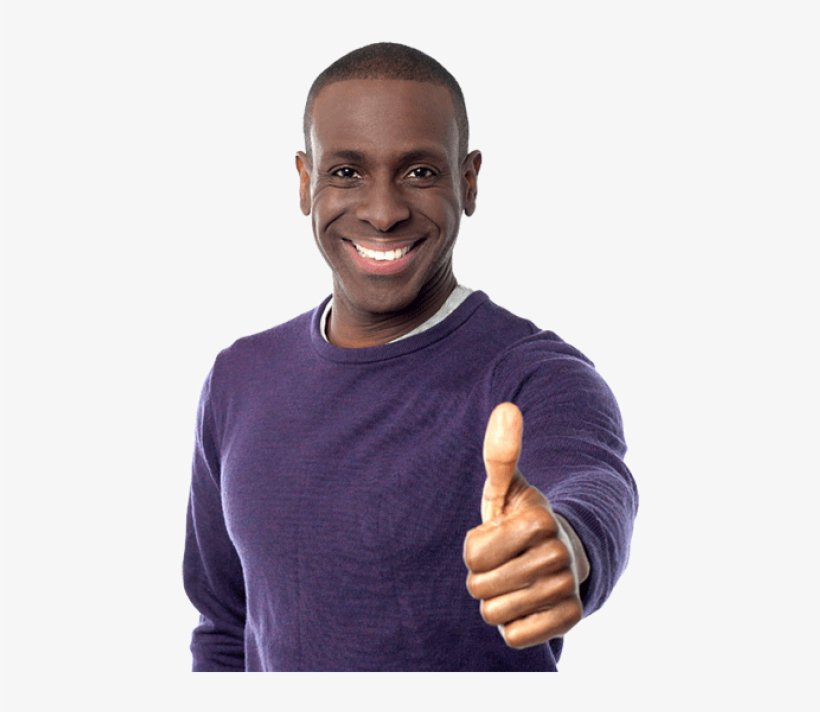noMask: (278, 25, 494, 313)
